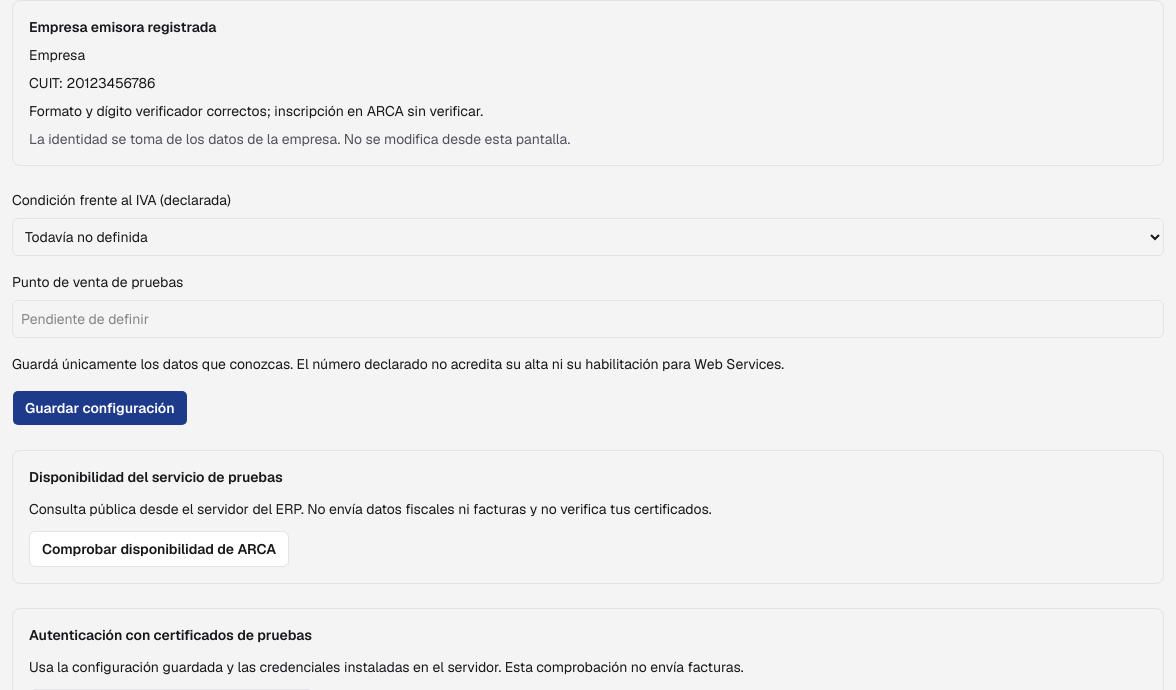
Test: Homologation setup › rejects invalid point 1.2 before saving
Type "1.2" into the field at [588, 319], box [12, 300, 1164, 338]
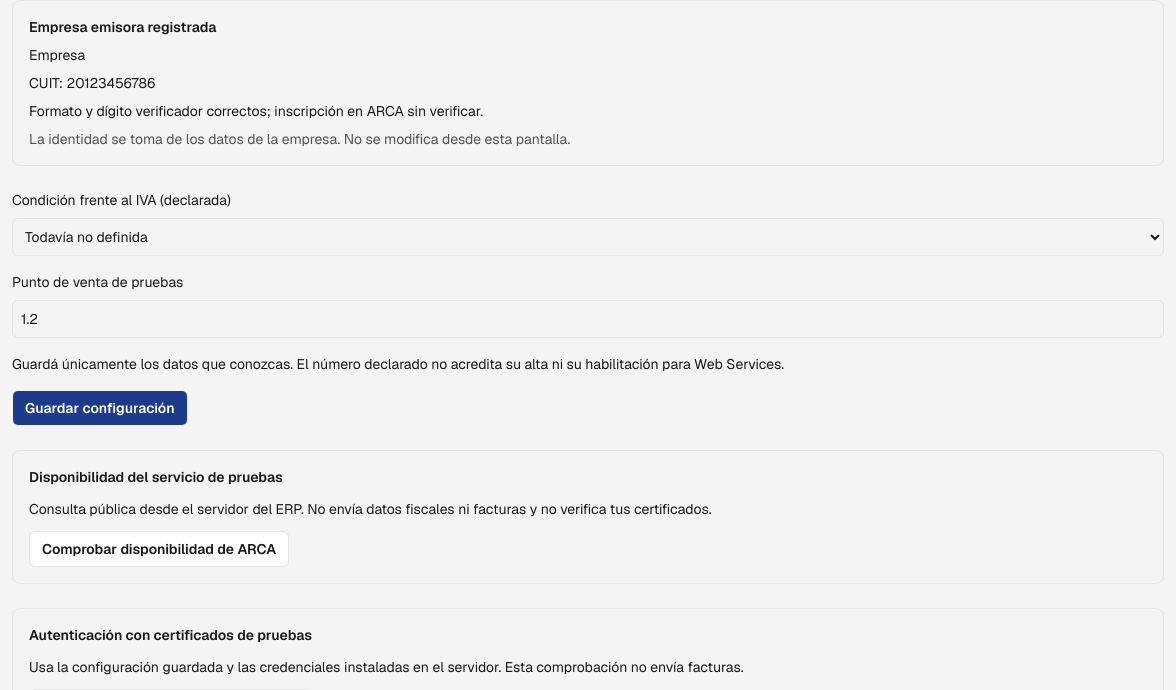
Click the button "Guardar configuración" at [100, 408], box [12, 390, 188, 426]
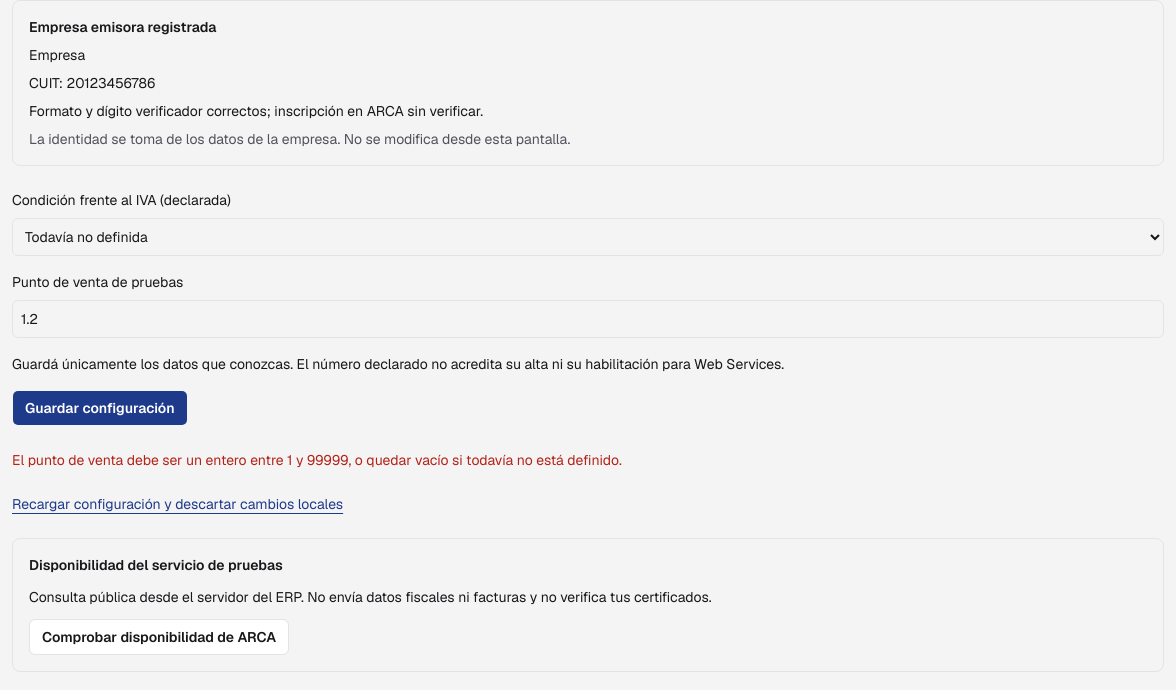
Expected: the message is shown, [12, 451, 622, 469]
